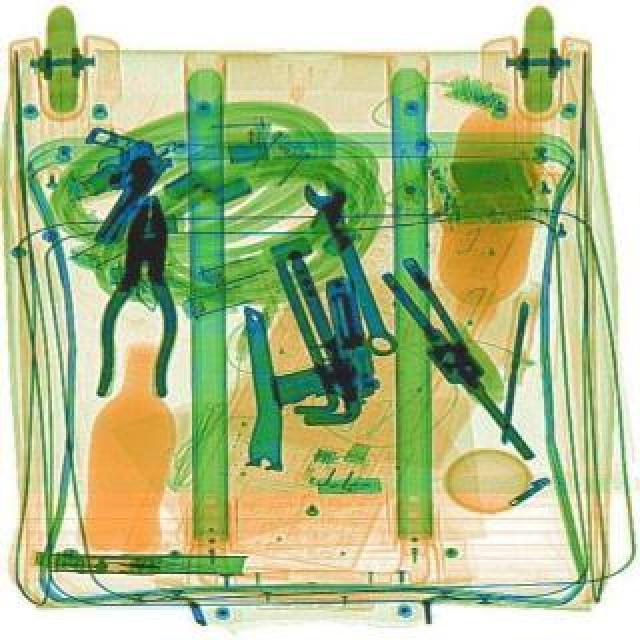gun: (248, 274, 380, 420), (40, 114, 178, 250)
scissors: (298, 174, 406, 362)
wrench: (94, 192, 186, 398)
